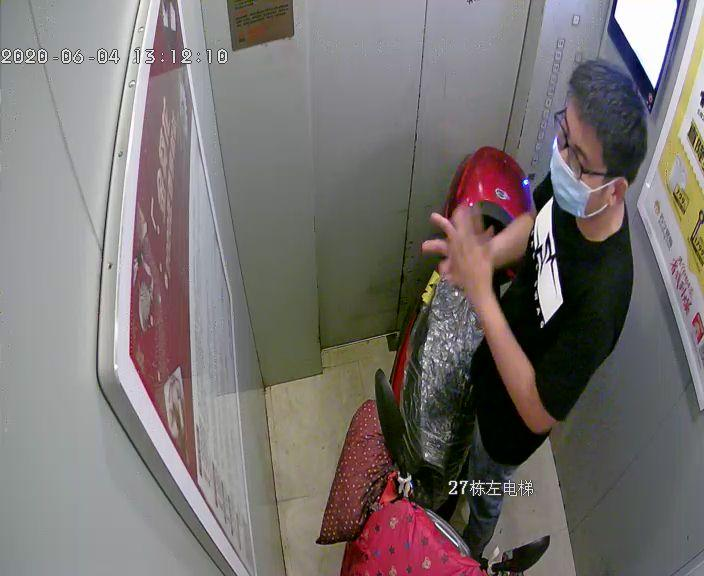Electric-bicycle: (371, 146, 552, 571)
